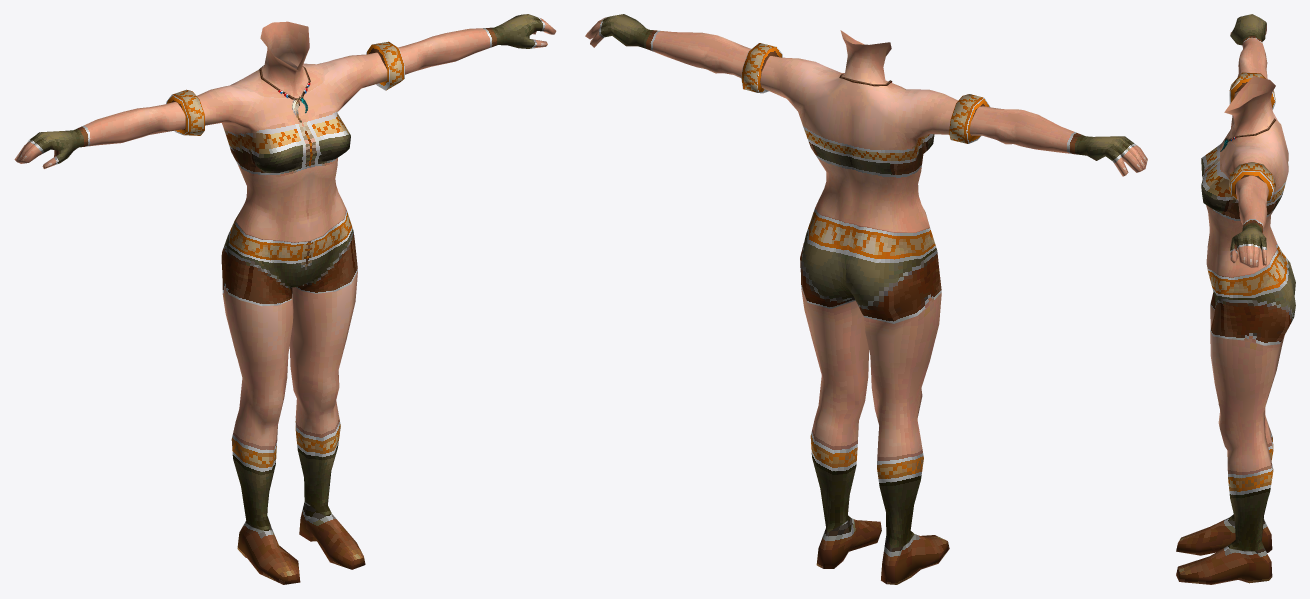
Rendered from f_body001.obj.
The picture shows the model from 3 angles, left to right: view 1: azimuth 30°, elevation 25°; view 2: azimuth 150°, elevation 25°; view 3: azimuth 270°, elevation 25°; orthographic projection. The views are drawn at different scales.
Parts seen in each view (by area): view 1: editpl_f-0000-29, editpl_f-0000-28, editpl_f-0000-27; view 2: editpl_f-0000-29, editpl_f-0000-28, editpl_f-0000-27; view 3: editpl_f-0000-29, editpl_f-0000-28, editpl_f-0000-27.
Boxes of the visible parts, x1,y1,x2,y2 form: editpl_f-0000-29: [221, 210, 365, 584]; editpl_f-0000-28: [197, 21, 387, 242]; editpl_f-0000-27: [14, 14, 556, 168]; editpl_f-0000-29: [800, 208, 949, 584]; editpl_f-0000-28: [760, 30, 957, 232]; editpl_f-0000-27: [585, 14, 1147, 176]; editpl_f-0000-29: [1176, 244, 1295, 584]; editpl_f-0000-28: [1201, 76, 1288, 277]; editpl_f-0000-27: [1229, 14, 1275, 267].
Size of the model in its own units: 173 by 159 by 36.08.
